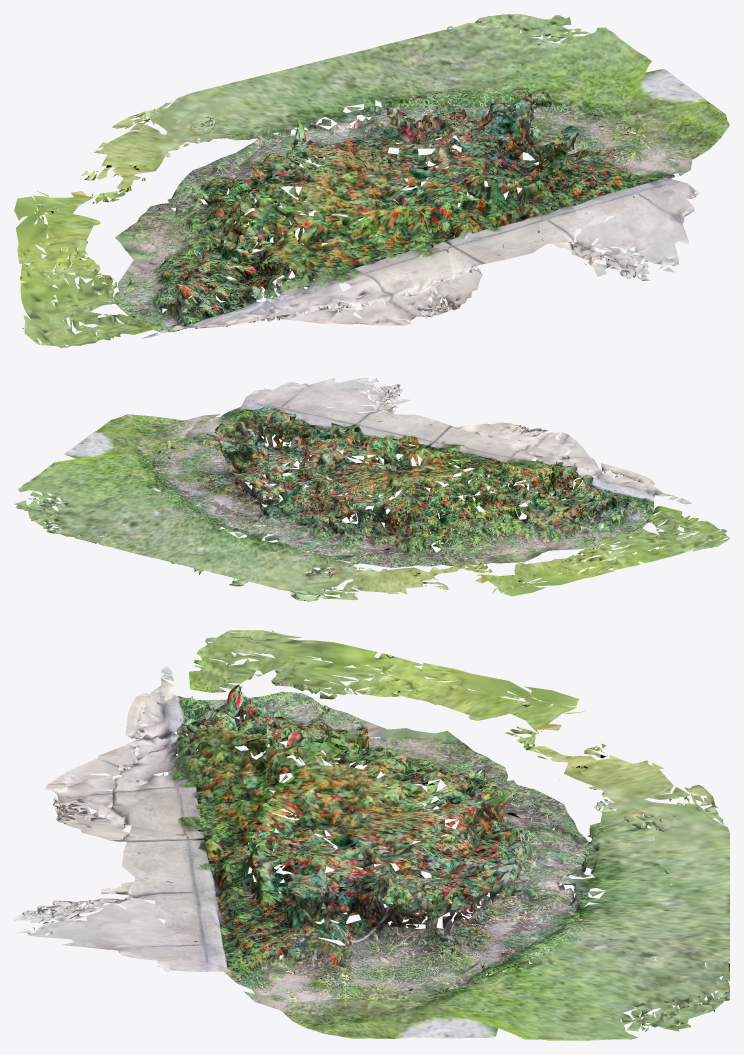
File: grass.glb
3 renders of one model, top to bottom at view 1: azimuth 30°, elevation 25°; view 2: azimuth 150°, elevation 25°; view 3: azimuth 270°, elevation 25°, orthographic. The views are drawn at different scales.
Bounding box in the file's own units: 7.73 × 0.7308 × 5.56.
Materials: 4 (4 with a texture image).
